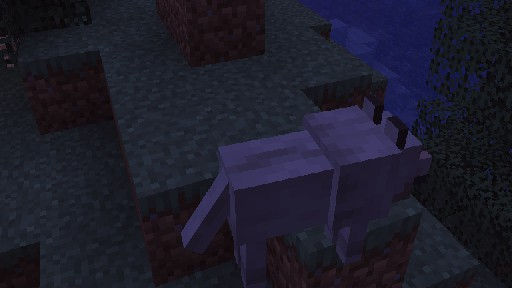wolf: (180, 93, 432, 288)
